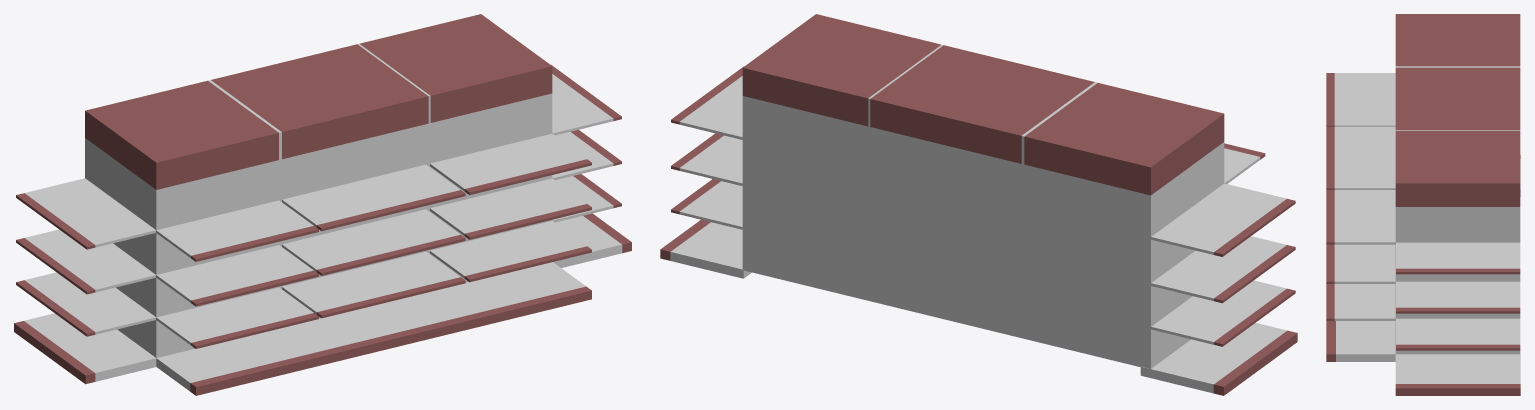
Rendered from Shelf 3.fbx.
3 views of the same model, side by side, from view 1: azimuth 30°, elevation 25°; view 2: azimuth 150°, elevation 25°; view 3: azimuth 270°, elevation 25° (orthographic). The views are drawn at different scales.
Visible parts, largest first — view 1: pCube25, pCube22, pCube27, pCube24, pCube20, pCube31, pCube18, pCube23, pCube17, pCube19, pCube26, pCube21 (+7 smaller); view 2: pCube25, pCube31, pCube28, pCube29, pCube30, pCube34, pCube32, pCube33, pCube35, pCube17; view 3: pCube25, pCube34, pCube27, pCube35, pCube33, pCube32, pCube19, pCube17, pCube22, pCube26, pCube21.
Part boxes in pixels (x1,y1,x2,y2): pCube25: (85, 14, 552, 357); pCube22: (156, 262, 591, 395); pCube27: (282, 164, 465, 231); pCube24: (282, 209, 465, 275); pCube20: (282, 251, 465, 318); pCube31: (14, 313, 156, 384); pCube18: (156, 287, 318, 348); pCube23: (156, 245, 318, 306); pCube17: (156, 200, 318, 261); pCube19: (430, 133, 591, 195); pCube26: (430, 178, 591, 239); pCube21: (430, 221, 591, 282); pCube25: (742, 14, 1224, 368); pCube31: (1140, 322, 1297, 395); pCube28: (1151, 183, 1295, 256); pCube29: (1151, 236, 1295, 303); pCube30: (1151, 280, 1295, 346); pCube34: (660, 219, 751, 278); pCube32: (671, 66, 743, 139); pCube33: (671, 133, 742, 185); pCube35: (671, 179, 742, 229); pCube17: (1224, 143, 1265, 183); pCube25: (1395, 14, 1520, 354); pCube34: (1395, 354, 1520, 395); pCube27: (1326, 126, 1395, 189); pCube35: (1396, 318, 1520, 350); pCube33: (1396, 281, 1520, 313); pCube32: (1396, 242, 1520, 274); pCube19: (1326, 190, 1395, 244); pCube17: (1326, 73, 1395, 126); pCube22: (1326, 321, 1395, 361); pCube26: (1326, 244, 1395, 283); pCube21: (1326, 284, 1395, 320).
Size of the model in its own units: 8.66 by 3.09 by 3.05.
